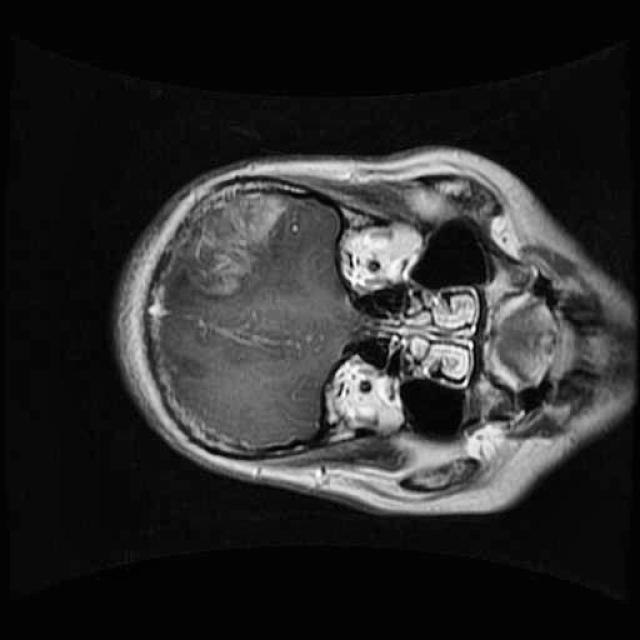Tumor: (148, 148, 312, 314)
